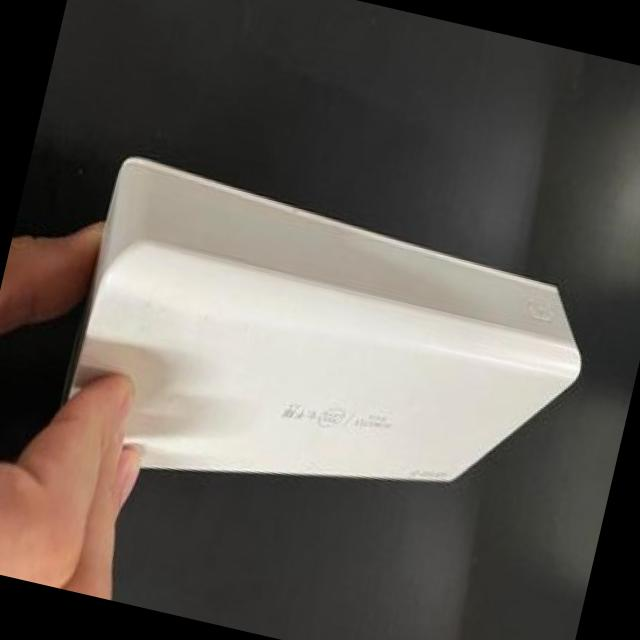portable-charger: (35, 146, 616, 596)
